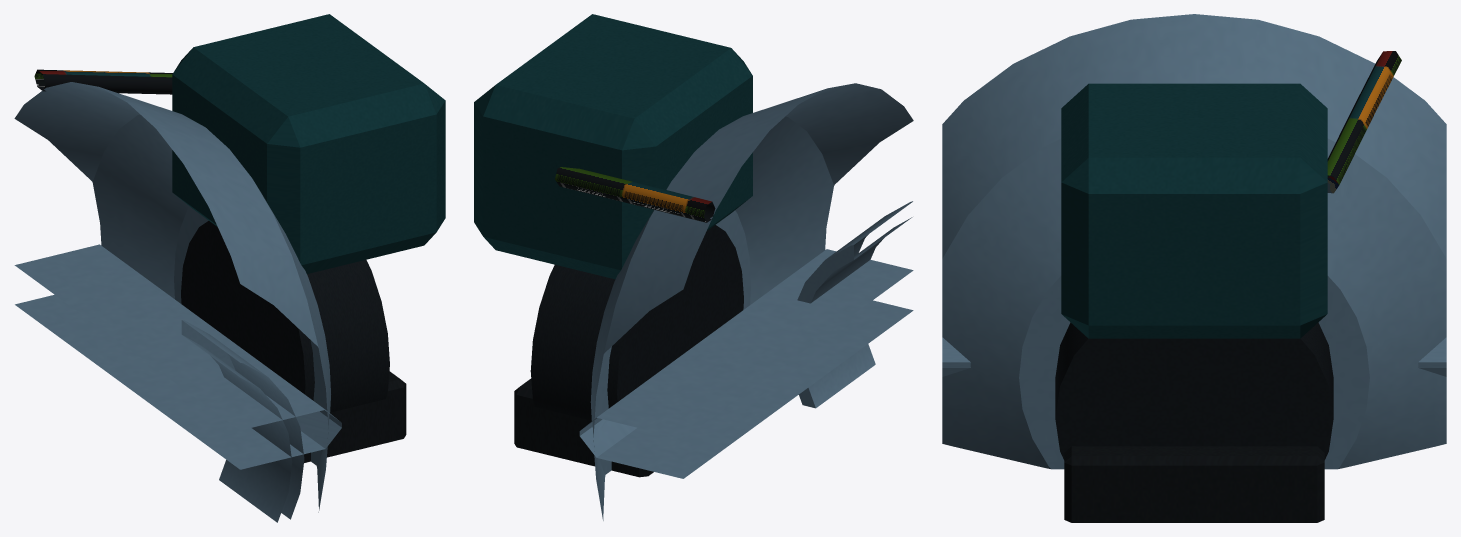
File: cell_34.obj
The picture shows the model from 3 angles, left to right: view 1: azimuth 30°, elevation 25°; view 2: azimuth 150°, elevation 25°; view 3: azimuth 270°, elevation 25°; orthographic projection. The views are drawn at different scales.
Visible parts, largest first — view 1: cell_34; view 2: cell_34; view 3: cell_34.
Part boxes in pixels (<box>): cell_34: <box>14,14,445,522</box>; cell_34: <box>474,14,913,520</box>; cell_34: <box>942,14,1446,522</box>.
Bounding box in the file's own units: 0.692 × 0.8471 × 1.
